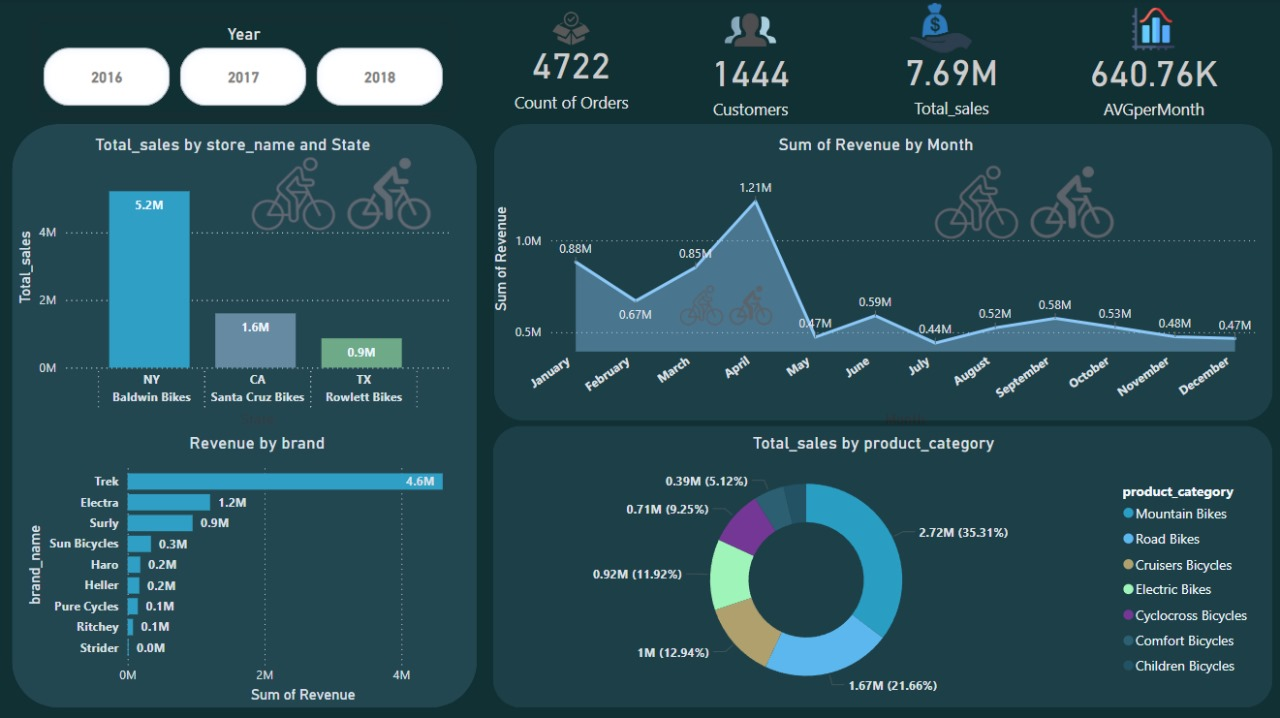

Layout of this report page (visuals, bound fields, positions):
{"tool":"powerbi","page":{"name":"Page 1","canvas":[1280,720],"ordinal":0},"visuals":[{"type":"barChart","title":" Revenue by brand ","fields":{"Y":["Sum(Query1.Revenue)"],"Category":["Query1.brand_name"]},"box":[25.3,433.1,469.3,273.9],"z":0},{"type":"advancedSlicerVisual","fields":{"Values":["Query1.Order_date.Variation.Date Hierarchy.Year"]},"box":[42.2,25.3,409,88.1],"z":1000},{"type":"areaChart","fields":{"Category":["Query1.Order_date.Variation.Date Hierarchy.Month"],"Y":["Sum(Query1.Revenue)"]},"box":[489.8,135.1,773.3,298],"z":2000},{"type":"card","fields":{"Values":["Query1.AVGperMonth"]},"box":[1050.8,32.6,205.1,100.1],"z":4000},{"type":"card","fields":{"Values":["Query1.Total_sales"]},"box":[851.7,31.4,200.3,100.1],"z":5000},{"type":"card","fields":{"Values":["Count(Query1.Customer_name)"]},"box":[651.5,32.6,200.3,100.1],"z":6000},{"type":"donutChart","fields":{"Category":["Query1.product_category"],"Y":["Query1.Total_sales"]},"box":[487.4,433.1,773.3,273.9],"z":7000},{"type":"card","fields":{"Values":["CountNonNull(Query1.Order_id)"]},"box":[472.9,25.3,200.3,100.1],"z":8000},{"type":"image","box":[924.1,108.6,200.3,189.4],"z":9000},{"type":"image","box":[243.7,100.1,200.3,189.4],"z":10000},{"type":"image","box":[673.2,237.7,108.6,137.5],"z":11000},{"type":"shape","box":[14.9,124.6,463.3,581.2],"z":12000},{"type":"shape","box":[494.5,124.6,776.3,295.3],"z":13000},{"type":"clusteredColumnChart","fields":{"Category":["Query1.store_name","Query1.State"],"Y":["Query1.Total_sales"]},"box":[25.7,135.5,440.3,298.1],"z":13500},{"type":"shape","box":[494.6,425.9,776.9,281.1],"z":14000},{"type":"image","box":[520,0,105,63.9],"z":15000},{"type":"image","box":[700.9,0,101.3,63.9],"z":16000},{"type":"image","box":[892.8,0,96.5,63.9],"z":17000},{"type":"image","box":[1105.1,4.8,95.3,51.9],"z":18000}]}

Visuals, with their boxes in screenshot pixels (x1, y1, x2, y2), scaled from the page's 1280x720 canvas onto the 1280x718 screenshot:
" Revenue by brand " barChart: bbox(25, 432, 495, 705)
advancedSlicerVisual - Query1.Order_date.Variation.Date Hierarchy.Year: bbox(42, 25, 451, 113)
areaChart - Query1.Order_date.Variation.Date Hierarchy.Month x Sum(Query1.Revenue): bbox(490, 135, 1263, 432)
card - Query1.AVGperMonth: bbox(1051, 33, 1256, 132)
card - Query1.Total_sales: bbox(852, 31, 1052, 131)
card - Count(Query1.Customer_name): bbox(652, 33, 852, 132)
donutChart - Query1.product_category x Query1.Total_sales: bbox(487, 432, 1261, 705)
card - CountNonNull(Query1.Order_id): bbox(473, 25, 673, 125)
image: bbox(924, 108, 1124, 297)
image: bbox(244, 100, 444, 289)
image: bbox(673, 237, 782, 374)
shape: bbox(15, 124, 478, 704)
shape: bbox(494, 124, 1271, 419)
clusteredColumnChart - Query1.store_name x Query1.State: bbox(26, 135, 466, 432)
shape: bbox(495, 425, 1272, 705)
image: bbox(520, 0, 625, 64)
image: bbox(701, 0, 802, 64)
image: bbox(893, 0, 989, 64)
image: bbox(1105, 5, 1200, 57)
